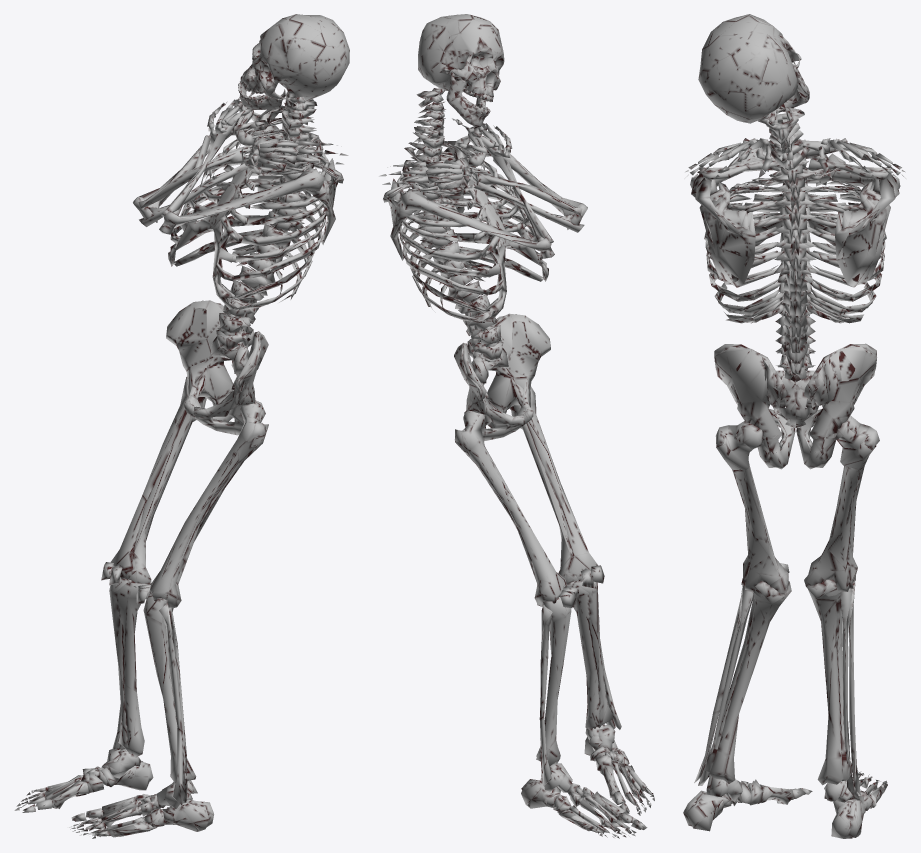
The model's file is Skeleton_Mesh.fbx.
3 renders of one model, left to right at view 1: azimuth 30°, elevation 25°; view 2: azimuth 150°, elevation 25°; view 3: azimuth 270°, elevation 25°, orthographic. The views are drawn at different scales.
Parts seen in each view (by area): view 1: Skeleton_Mesh.005; view 2: Skeleton_Mesh.005; view 3: Skeleton_Mesh.005.
Part boxes in pixels (x1,y1,x2,y2): Skeleton_Mesh.005: [14, 14, 349, 838]; Skeleton_Mesh.005: [379, 14, 654, 838]; Skeleton_Mesh.005: [683, 14, 905, 838].
Bounding box in the file's own units: 0.6467 × 1.71 × 0.3914.
